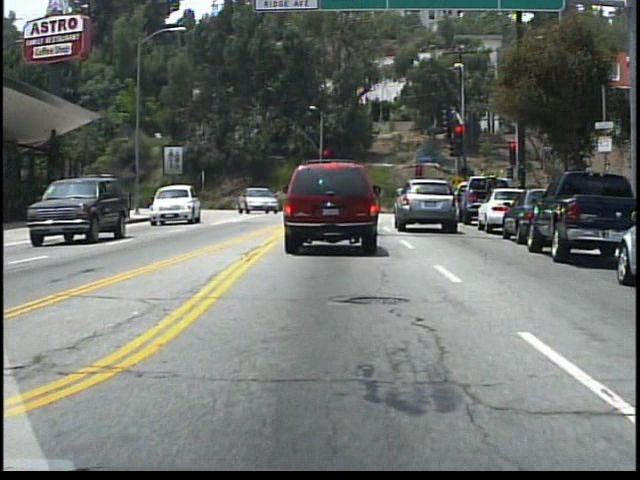person: (241, 187, 254, 212)
